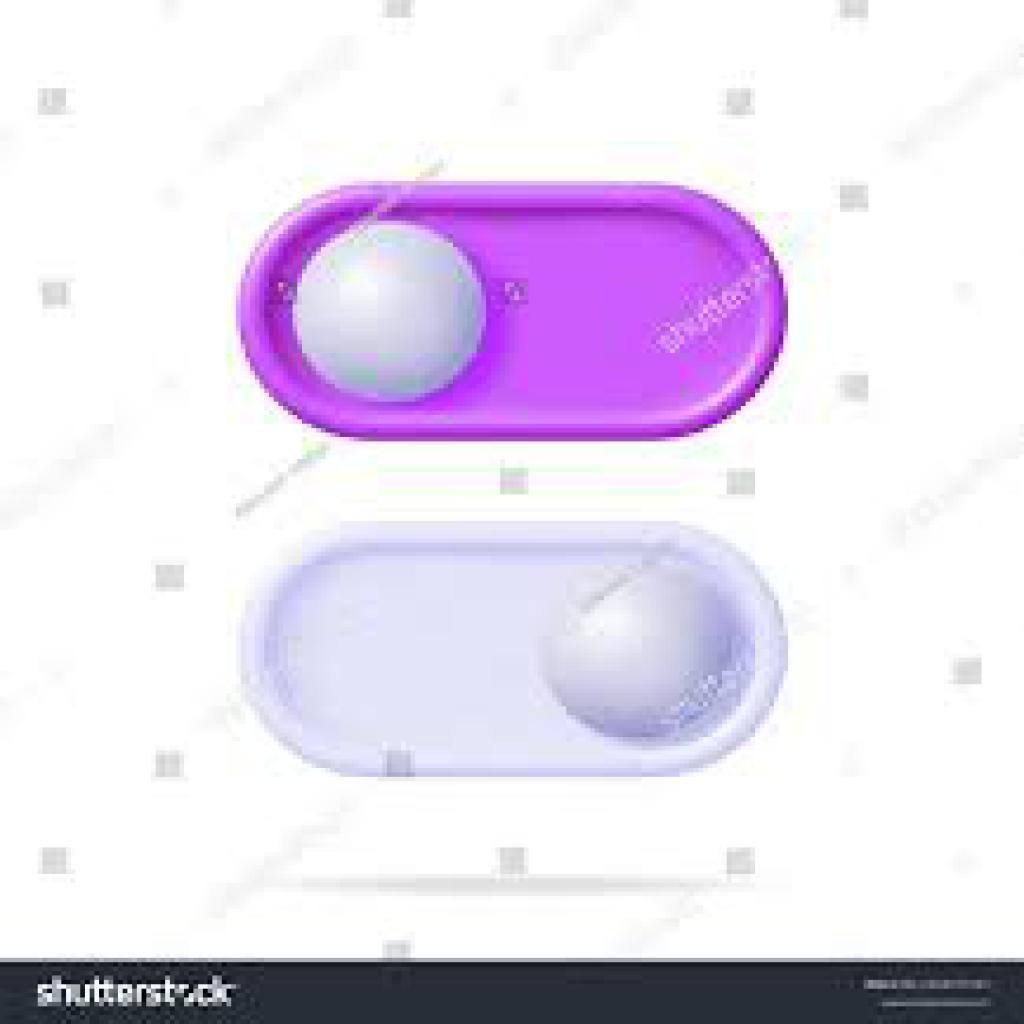switch: (231, 183, 795, 444), (240, 520, 784, 778)
